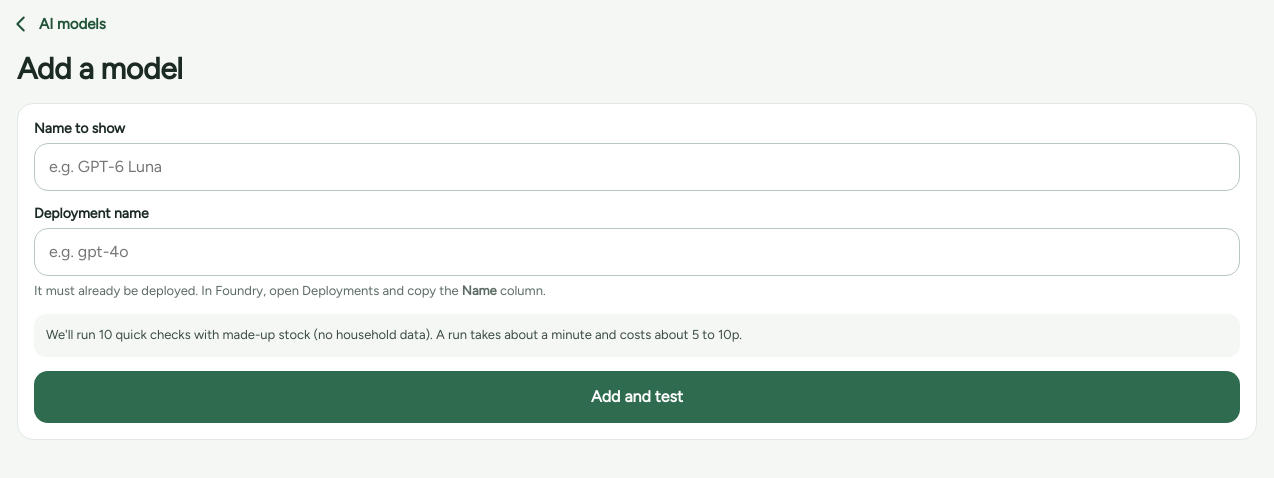
Test: Add a model › the API's own refusal is shown: a duplicate, or a bad name
Type "X" into the field labelled "Name to show" at (637, 166), box 34,142 -> 1240,190
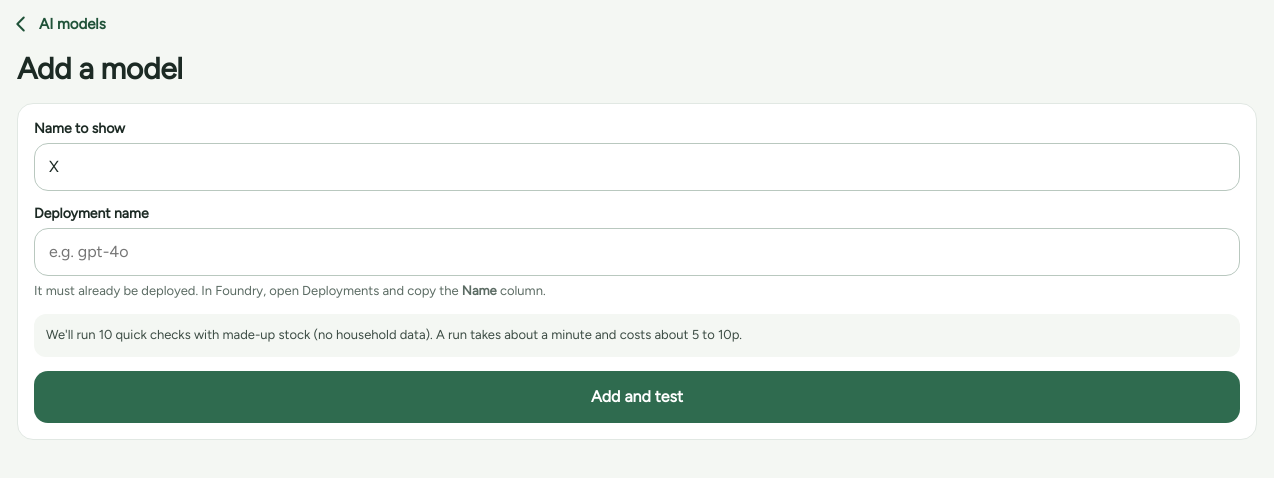
Type "x" into the field labelled "Deployment name" at (637, 252), box 34,228 -> 1240,276
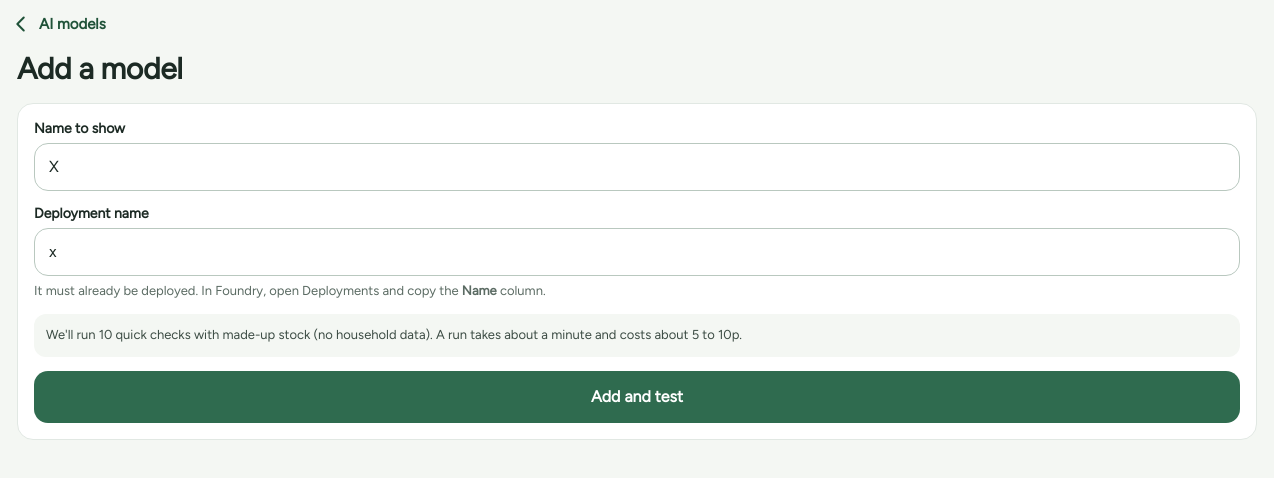
Click the button "Add and test" at (637, 396), box 34,370 -> 1240,422
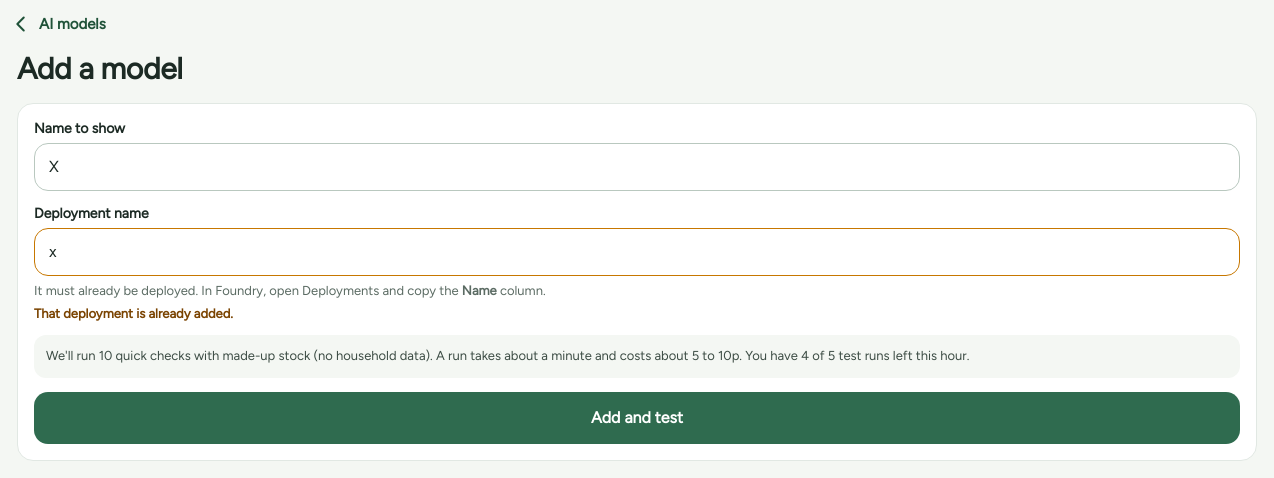
Check: the message reads "That deployment is already added.", box 34,306 -> 233,321
Click the button "Add and test" at (637, 418), box 34,392 -> 1240,444
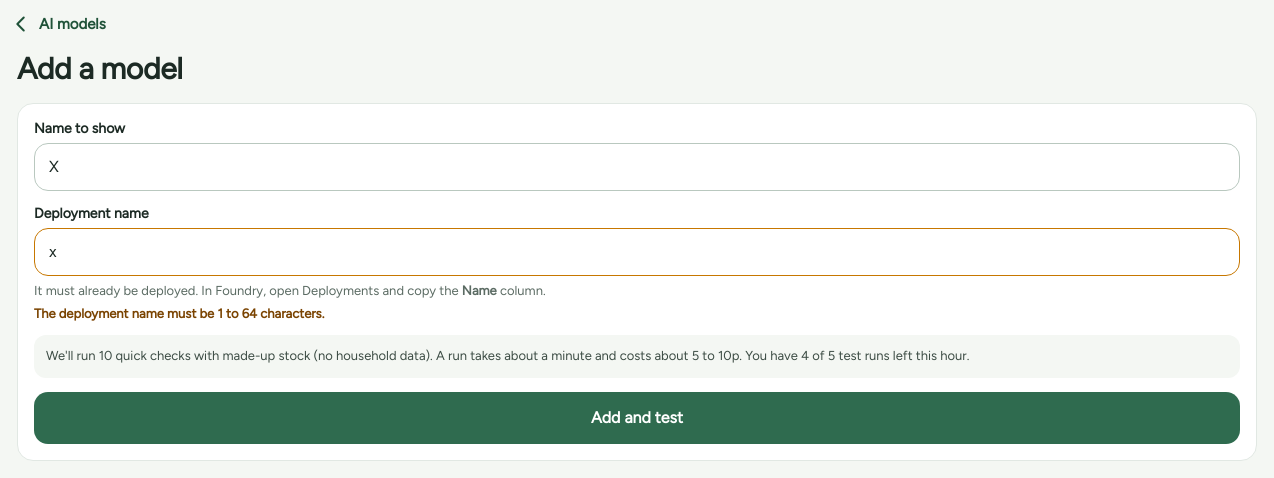
Check: the message reads "The deployment name must be 1 to 64 characters.", box 34,306 -> 324,321
